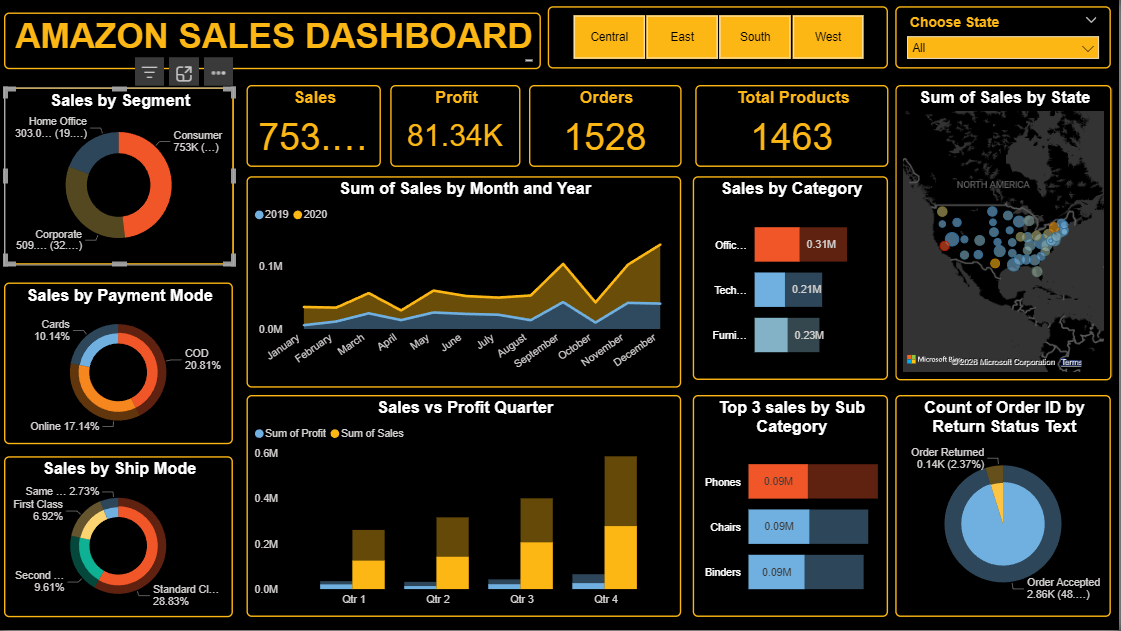

What the dashboard file says about the page in this screenshot:
{"tool":"powerbi","page":{"name":"Page 1","canvas":[1280,720],"ordinal":0},"visuals":[{"type":"clusteredBarChart","title":" Sales by Category","fields":{"Category":["Amazon Store Sales Data xlsx - Sheet1 (1).Category"],"Y":["Sum(Amazon Store Sales Data xlsx - Sheet1 (1).Sales)"]},"box":[792.6,201.2,223.3,233.1],"z":0},{"type":"donutChart","title":"Sales by Segment","fields":{"Category":["Amazon Store Sales Data xlsx - Sheet1 (1).Segment"],"Y":["Sum(Amazon Store Sales Data xlsx - Sheet1 (1).Sales)"]},"box":[6.2,100,262.5,202.5],"z":1000},{"type":"barChart","title":"Top 3 sales by Sub Category","fields":{"Category":["Amazon Store Sales Data xlsx - Sheet1 (1).Sub-Category"],"Y":["Sum(Amazon Store Sales Data xlsx - Sheet1 (1).Sales)"],"Series":["Amazon Store Sales Data xlsx - Sheet1 (1).Sub-Category"]},"box":[792.6,451.5,223.3,254],"z":2000},{"type":"textbox","title":"AMAZON SALES DASHBOARD","box":[6.2,13.8,613.8,65],"z":3000},{"type":"donutChart","title":"Sales by Payment Mode","fields":{"Category":["Amazon Store Sales Data xlsx - Sheet1 (1).Payment Mode"],"Y":["Sum(Amazon Store Sales Data xlsx - Sheet1 (1).Sales)"]},"box":[6.2,322.5,261.2,185],"z":4000},{"type":"donutChart","title":" Sales by Ship Mode","fields":{"Category":["Amazon Store Sales Data xlsx - Sheet1 (1).Ship Mode"],"Y":["Sum(Amazon Store Sales Data xlsx - Sheet1 (1).Sales)"]},"box":[5.7,521.4,261.4,184.3],"z":5000},{"type":"card","title":"Sales","fields":{"Values":["Sum(Amazon Store Sales Data xlsx - Sheet1 (1).Sales)"]},"box":[283.4,96.9,153.4,93.3],"z":6000},{"type":"card","title":"Profit","fields":{"Values":["Sum(Amazon Store Sales Data xlsx - Sheet1 (1).Profit)"]},"box":[447.9,96.9,148.5,93.3],"z":7000},{"type":"card","title":"Orders","fields":{"Values":["Amazon Store Sales Data xlsx - Sheet1 (1).Orders"]},"box":[606.1,96.9,174.2,93.3],"z":8000},{"type":"card","title":"Total Products","fields":{"Values":["Amazon Store Sales Data xlsx - Sheet1 (1).Total Products"]},"box":[795.1,96.9,220.9,93.3],"z":9000},{"type":"map","title":"Sum of Sales by State","fields":{"Category":["Amazon Store Sales Data xlsx - Sheet1 (1).State"],"Size":["Avg(Amazon Store Sales Data xlsx - Sheet1 (1).Sales)"]},"box":[1023.8,97.5,247.5,337.5],"z":10000},{"type":"stackedAreaChart","fields":{"Category":["Amazon Store Sales Data xlsx - Sheet1 (1).Order Date.Variation.Date Hierarchy.Month"],"Y":["Sum(Amazon Store Sales Data xlsx - Sheet1 (1).Sales)"],"Series":["Amazon Store Sales Data xlsx - Sheet1 (1).Order Date.Variation.Date Hierarchy.Year"]},"box":[283.4,201.2,496.9,241.7],"z":11000},{"type":"clusteredColumnChart","title":"Sales vs Profit Quarter","fields":{"Category":["Amazon Store Sales Data xlsx - Sheet1 (1).Order Date.Variation.Date Hierarchy.Quarter"],"Y":["Sum(Amazon Store Sales Data xlsx - Sheet1 (1).Profit)","Sum(Amazon Store Sales Data xlsx - Sheet1 (1).Sales)"]},"box":[283.4,451.5,496.9,254],"z":12000},{"type":"pieChart","fields":{"Y":["CountNonNull(Amazon Store Sales Data xlsx - Sheet1 (1).Order ID)"],"Category":["Amazon Store Sales Data xlsx - Sheet1 (1).Return Status Text"]},"box":[1024,452,246.7,253.3],"z":13000},{"type":"slicer","fields":{"Values":["Amazon Store Sales Data xlsx - Sheet1 (1).Region"]},"box":[627.5,7.5,388.8,71.2],"z":14000},{"type":"slicer","fields":{"Values":["Amazon Store Sales Data xlsx - Sheet1 (1).State"]},"box":[1023.8,7.5,246.2,71.2],"z":14001}]}

Visuals, with their boxes in screenshot pixels (x1, y1, x2, y2), scaled from the page's 1280x720 canvas onto the 1121x631 screenshot:
" Sales by Category" clusteredBarChart: bbox=[694, 176, 890, 381]
"Sales by Segment" donutChart: bbox=[5, 88, 235, 265]
"Top 3 sales by Sub Category" barChart: bbox=[694, 396, 890, 618]
"AMAZON SALES DASHBOARD" textbox: bbox=[5, 12, 543, 69]
"Sales by Payment Mode" donutChart: bbox=[5, 283, 234, 445]
" Sales by Ship Mode" donutChart: bbox=[5, 457, 234, 618]
"Sales" card: bbox=[248, 85, 383, 167]
"Profit" card: bbox=[392, 85, 522, 167]
"Orders" card: bbox=[531, 85, 683, 167]
"Total Products" card: bbox=[696, 85, 890, 167]
"Sum of Sales by State" map: bbox=[897, 85, 1113, 381]
stackedAreaChart - Amazon Store Sales Data xlsx - Sheet1 (1).Order Date.Variation.Date Hierarchy.Month x Sum(Amazon Store Sales Data xlsx - Sheet1 (1).Sales): bbox=[248, 176, 683, 388]
"Sales vs Profit Quarter" clusteredColumnChart: bbox=[248, 396, 683, 618]
pieChart - CountNonNull(Amazon Store Sales Data xlsx - Sheet1 (1).Order ID) x Amazon Store Sales Data xlsx - Sheet1 (1).Return Status Text: bbox=[897, 396, 1113, 618]
slicer - Amazon Store Sales Data xlsx - Sheet1 (1).Region: bbox=[550, 7, 890, 69]
slicer - Amazon Store Sales Data xlsx - Sheet1 (1).State: bbox=[897, 7, 1112, 69]
